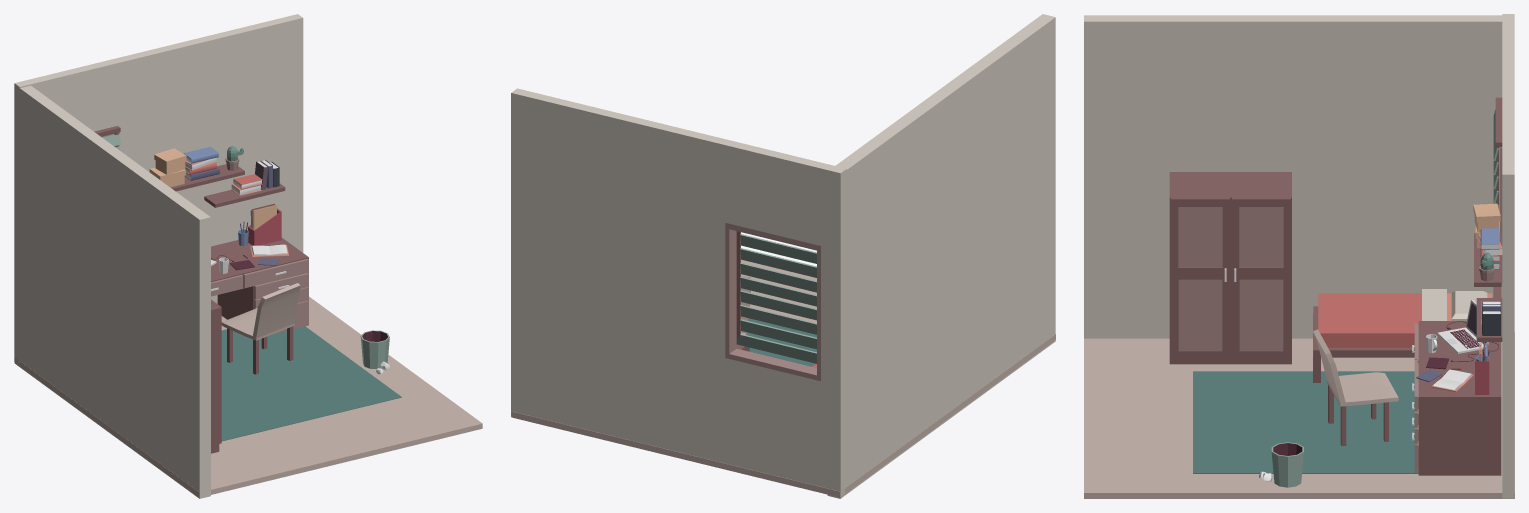
Rendered from bedroom.glb.
3 renders of one model, left to right at view 1: azimuth 30°, elevation 25°; view 2: azimuth 150°, elevation 25°; view 3: azimuth 270°, elevation 25°, orthographic. The views are drawn at different scales.
Visible parts, largest first — view 1: pCube56, pCube55, pCube1, pCube66, polySurface241, polySurface265, polySurface248, polySurface392, polySurface304, pCube79, polySurface423, polySurface416 (+4 smaller); view 2: pCube55, pCube56, polySurface280, pCube1, pCube66; view 3: pCube56, pCube1, pCube66, polySurface265, polySurface289, polySurface292, pCube7, pCube55, polySurface248, polySurface241, polySurface416, polySurface382 (+8 smaller).
Part boxes in pixels (x1,y1,x2,y2): pCube56: [14, 85, 210, 498]; pCube55: [14, 14, 303, 364]; pCube1: [14, 296, 482, 497]; pCube66: [221, 326, 401, 441]; polySurface241: [221, 283, 300, 374]; polySurface265: [211, 237, 308, 319]; polySurface248: [211, 302, 219, 453]; polySurface392: [248, 203, 281, 245]; polySurface304: [231, 159, 279, 195]; pCube79: [149, 148, 186, 187]; polySurface423: [243, 258, 308, 288]; polySurface416: [360, 330, 389, 368]; pCube55: [511, 88, 846, 496]; pCube56: [827, 14, 1055, 498]; polySurface280: [736, 231, 816, 363]; pCube1: [511, 259, 1055, 497]; pCube66: [747, 318, 816, 366]; pCube56: [1084, 15, 1502, 338]; pCube1: [1084, 332, 1514, 498]; pCube66: [1193, 371, 1418, 473]; polySurface265: [1418, 321, 1501, 475]; polySurface289: [1232, 197, 1290, 357]; polySurface292: [1171, 197, 1229, 357]; pCube7: [1313, 287, 1501, 382]; pCube55: [1499, 14, 1514, 498]; polySurface248: [1169, 172, 1291, 364]; polySurface241: [1313, 329, 1398, 446]; polySurface416: [1271, 442, 1303, 487]; polySurface382: [1437, 300, 1488, 353].
Bounding box in the file's own units: 26.66 × 25.18 × 30.18.
